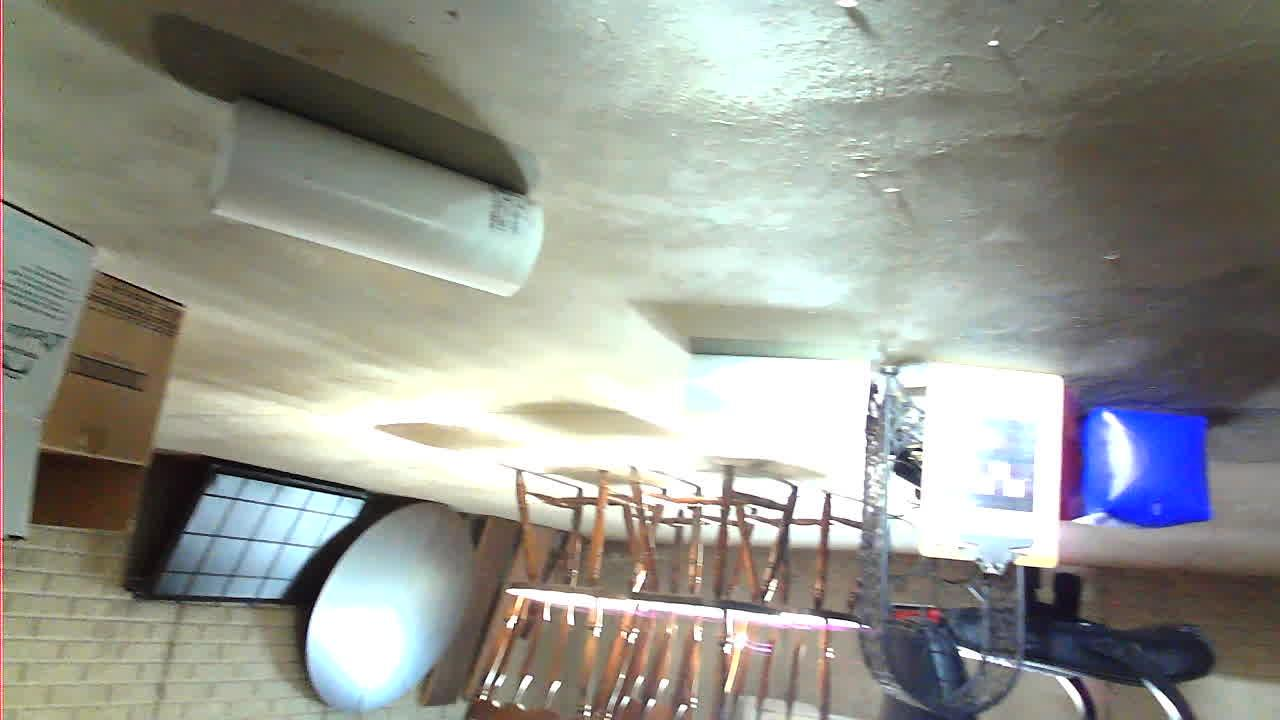coral: (735, 422, 1074, 623), (409, 278, 593, 367)
